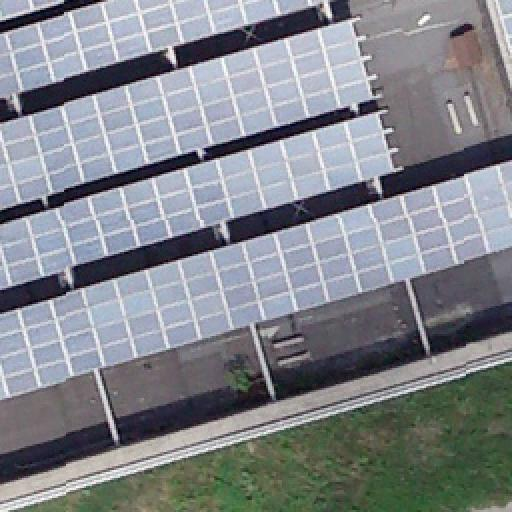solar-panel: (0, 162, 512, 398), (0, 20, 376, 212), (0, 112, 396, 288), (0, 0, 328, 96), (0, 0, 64, 20), (496, 0, 512, 52)
